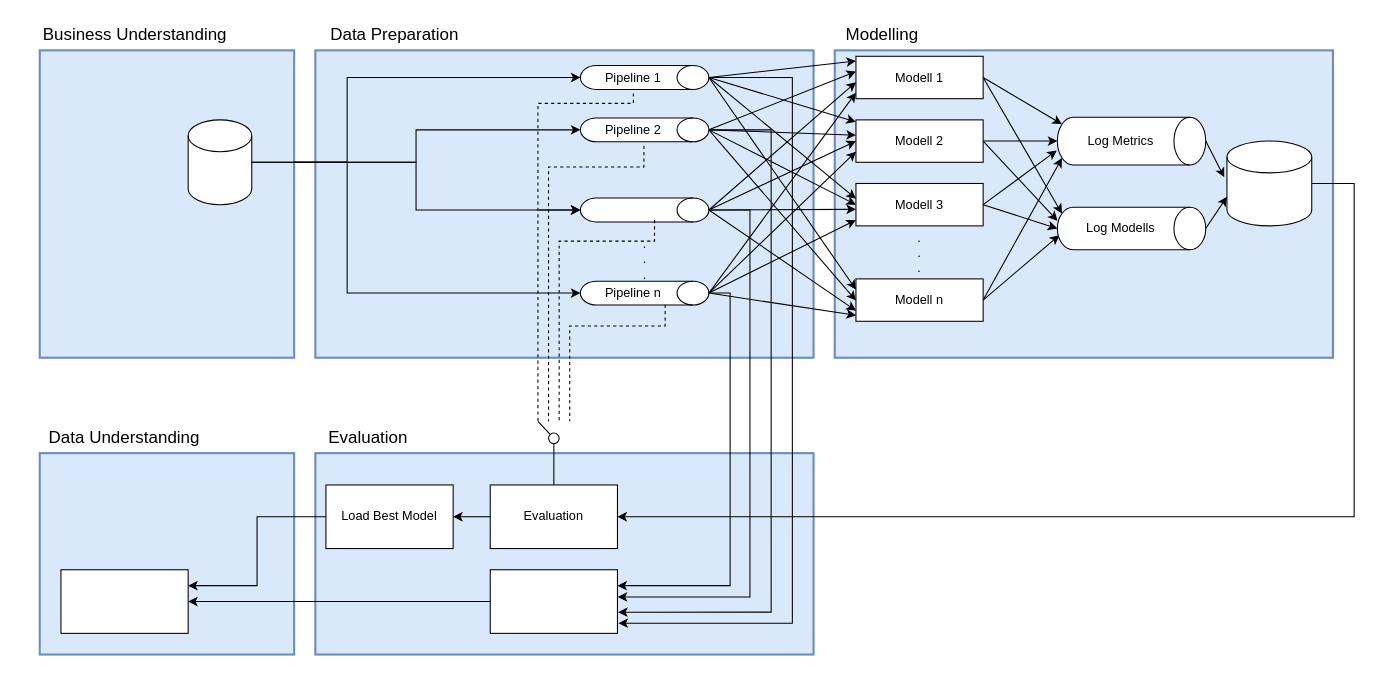
This 1381x673 diagram has some shape labels left out. Here are the shapes that lost their labels. From the top down, the box of each, then its label:
(187, 119, 252, 205): Data
(1226, 140, 1312, 226): Storage
(579, 197, 709, 222): Pipeline 3
(60, 569, 188, 633): Dashboard
(489, 569, 617, 633): Monitor Preprocessing
